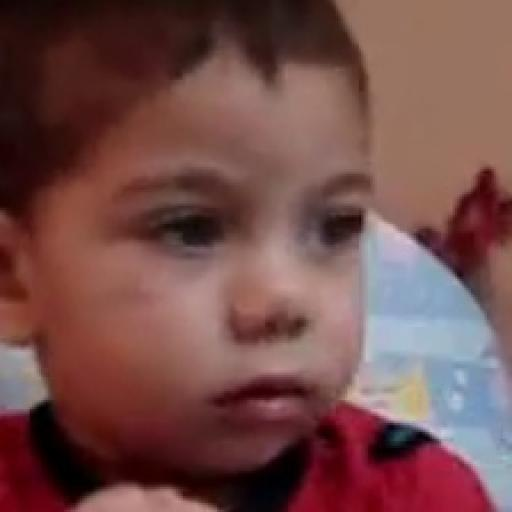Autism: (22, 20, 428, 484)
